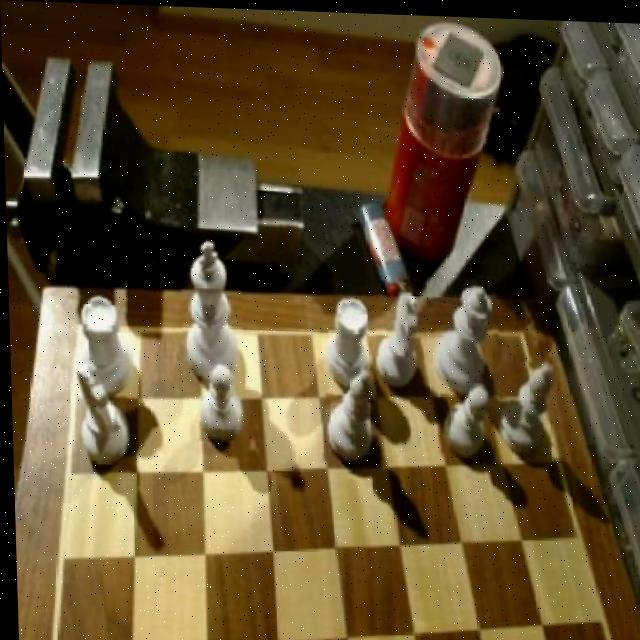black-rook: (320, 365, 375, 467), (494, 356, 553, 446)
white-bishop: (178, 236, 241, 387)
white-king: (65, 357, 126, 480), (372, 278, 427, 394)
white-knight: (435, 377, 490, 456), (195, 359, 244, 444)
white-pawn: (426, 277, 498, 394)
white-queen: (70, 296, 129, 405), (317, 295, 371, 394)
